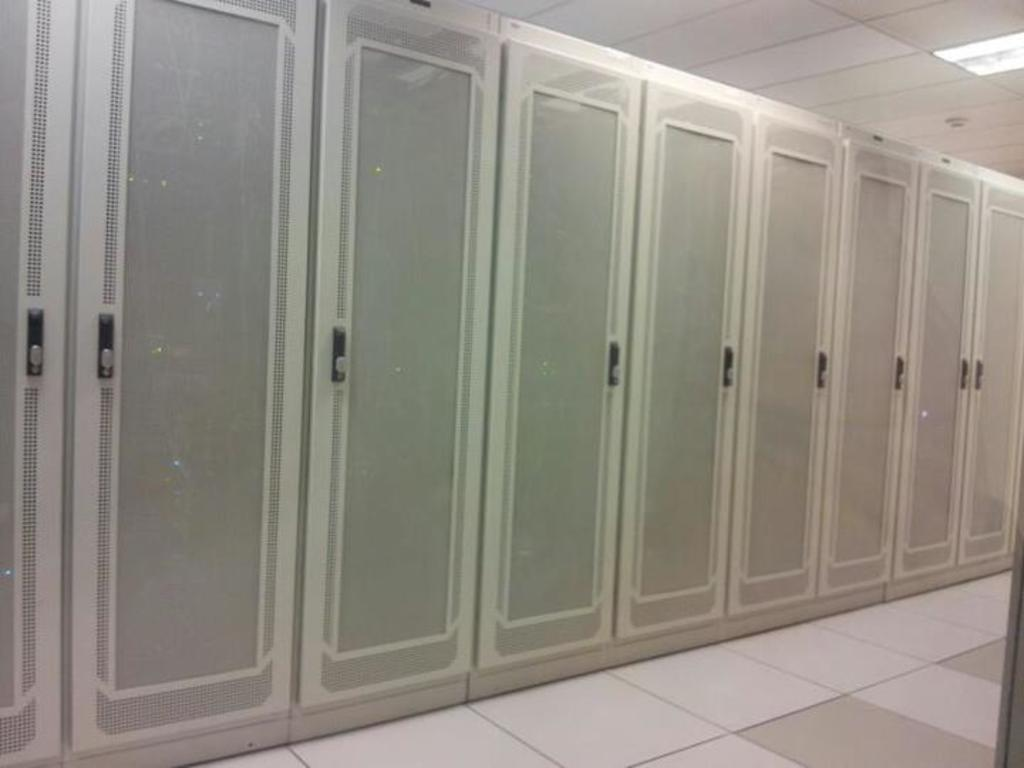cabinet door: (97, 19, 294, 698), (322, 30, 466, 656), (495, 68, 617, 622), (633, 108, 738, 593), (4, 13, 61, 736), (739, 145, 824, 586), (841, 162, 902, 587), (966, 196, 1024, 545), (918, 181, 967, 563)
handle: (323, 327, 354, 389), (95, 309, 119, 381), (600, 333, 626, 391), (712, 345, 740, 396), (24, 304, 45, 368), (807, 351, 830, 394), (886, 358, 908, 400), (970, 356, 990, 397), (956, 356, 972, 395)
